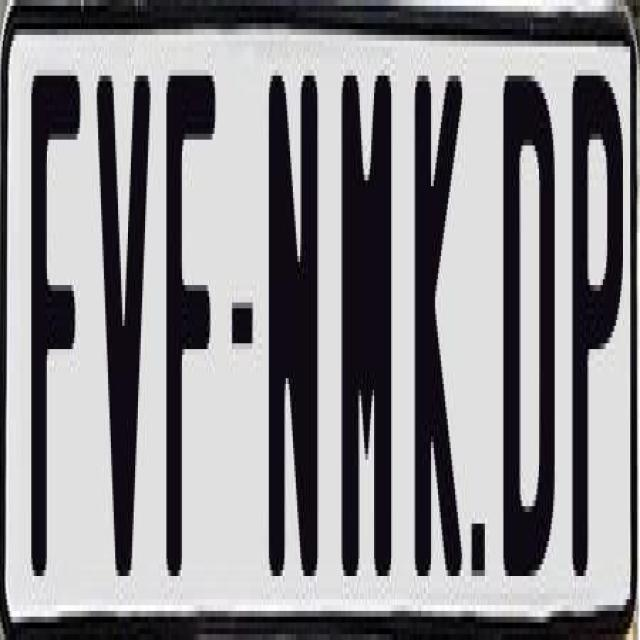D: (499, 70, 556, 576)
F: (30, 63, 81, 600), (166, 76, 215, 576)
K: (414, 76, 468, 576)
M: (337, 75, 390, 588)
N: (266, 58, 316, 576)
P: (570, 58, 618, 576)
V: (94, 64, 150, 576)
